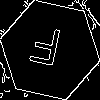F: (25, 25, 64, 76)
